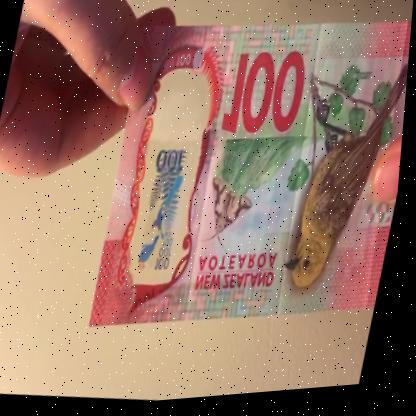100B: (131, 95, 209, 285)
